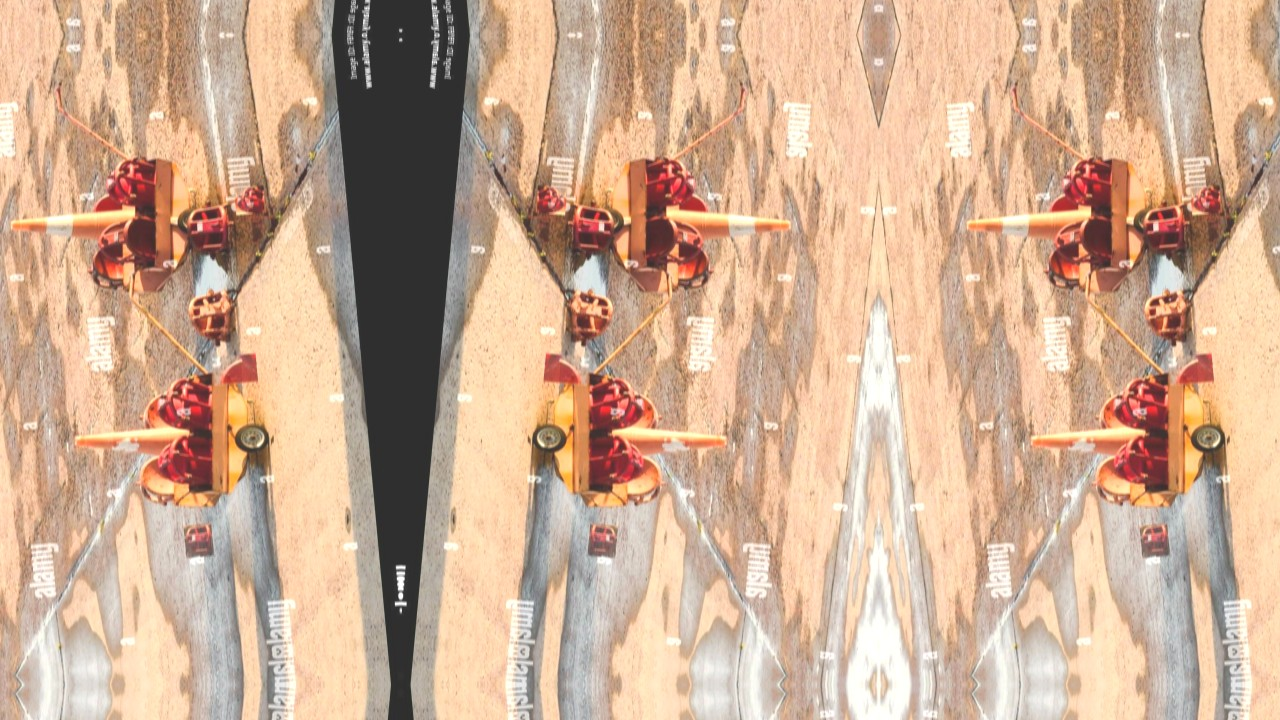chock: (151, 374, 216, 434), (585, 374, 650, 434), (1108, 374, 1173, 434), (184, 283, 242, 349), (559, 283, 617, 349), (1141, 283, 1199, 349), (153, 432, 216, 488), (96, 214, 159, 270), (585, 432, 648, 488), (642, 214, 705, 270), (1110, 432, 1173, 488), (1053, 214, 1116, 270), (105, 156, 160, 209), (641, 156, 696, 209), (1062, 156, 1117, 209), (184, 203, 233, 259), (568, 203, 617, 259), (1141, 203, 1190, 259), (132, 455, 177, 508), (624, 455, 669, 508), (1089, 455, 1134, 508), (83, 242, 128, 292), (673, 242, 718, 292), (1040, 242, 1085, 292), (138, 389, 181, 431), (620, 389, 663, 431), (1095, 389, 1138, 431), (212, 354, 258, 386), (543, 354, 589, 386), (1169, 354, 1215, 386), (183, 524, 214, 558), (587, 524, 618, 558), (1140, 524, 1171, 558), (234, 186, 266, 215), (535, 186, 567, 215), (1191, 186, 1223, 215), (88, 190, 121, 213), (680, 190, 713, 213), (1045, 190, 1078, 213)
wheel: (234, 422, 271, 455), (530, 422, 567, 455), (1191, 422, 1228, 455), (176, 205, 208, 237), (593, 205, 625, 237), (1133, 205, 1165, 237)
